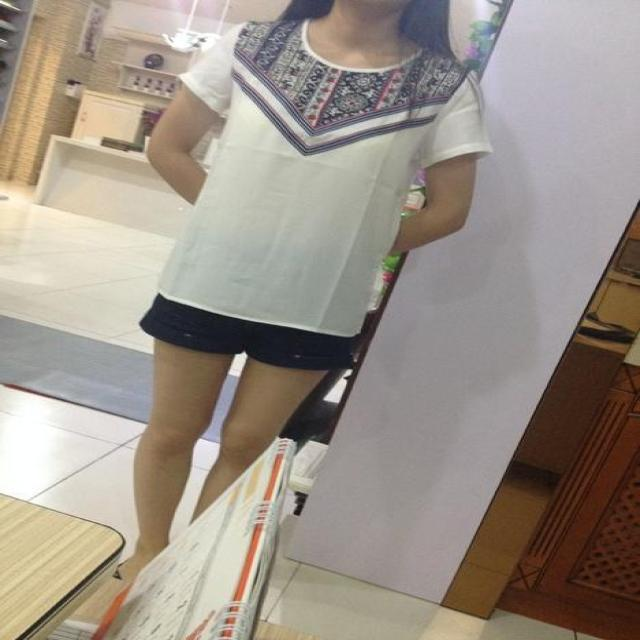short sleeve top: (161, 21, 490, 333)
shorts: (141, 270, 361, 369)
